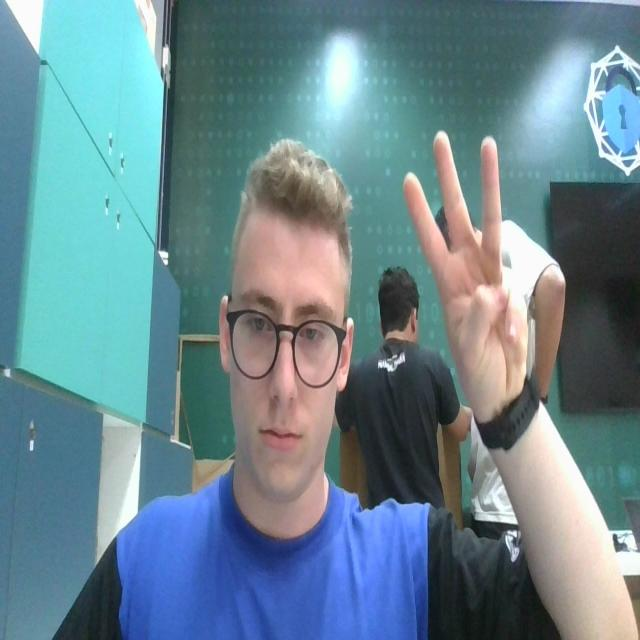W: (404, 128, 530, 407)
